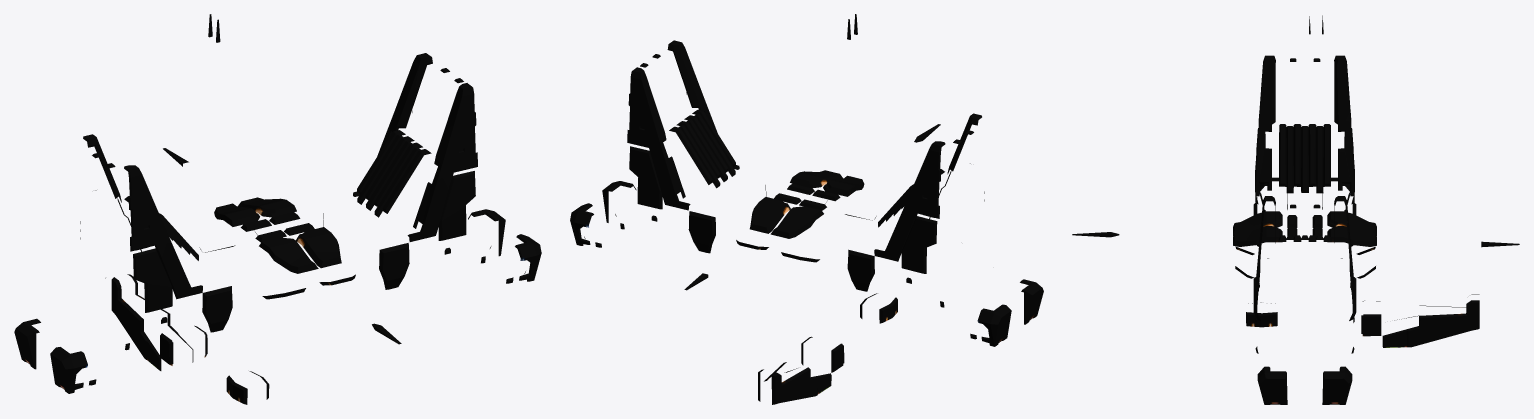
Rendered from tan_outpost_02.glb.
3 renders of one model, left to right at view 1: azimuth 30°, elevation 25°; view 2: azimuth 150°, elevation 25°; view 3: azimuth 270°, elevation 25°, orthographic. The views are drawn at different scales.
Visible parts, largest first — view 1: tan_outpost_02_LOD0; view 2: tan_outpost_02_LOD0; view 3: tan_outpost_02_LOD0.
Boxes of the visible parts, bbox=[...] form: tan_outpost_02_LOD0: bbox=[14, 14, 541, 404]; tan_outpost_02_LOD0: bbox=[570, 14, 1043, 404]; tan_outpost_02_LOD0: bbox=[1072, 15, 1519, 404].
Size of what is drawn, in the model's own units: 24.4 by 18.48 by 22.93.
Materials: 1 (1 with a texture image).
